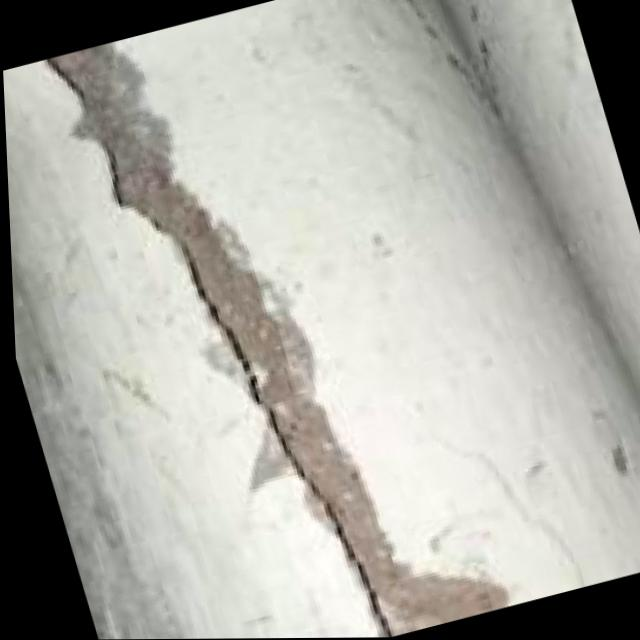Crack: (21, 8, 415, 640)
